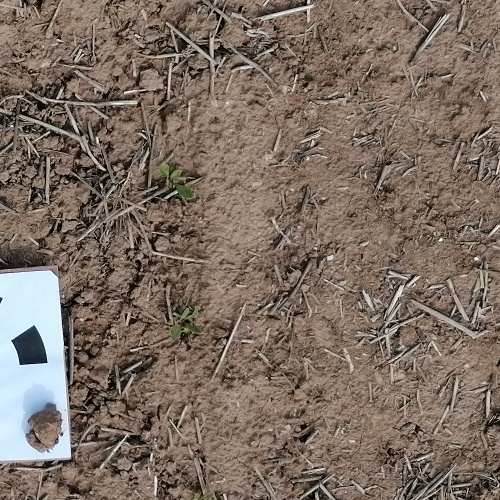beet: (172, 307, 203, 341), (164, 165, 194, 196)
